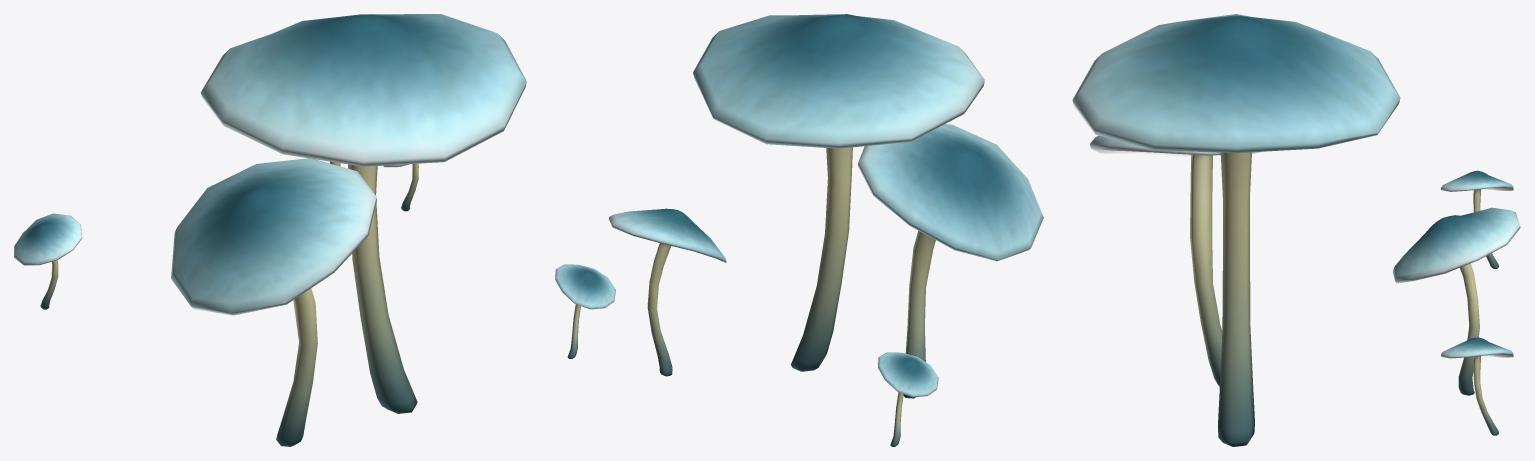
Rendered from Cartoon Seaweed_13-1-24.fbx.
The picture shows the model from 3 angles, left to right: view 1: azimuth 30°, elevation 25°; view 2: azimuth 150°, elevation 25°; view 3: azimuth 270°, elevation 25°; orthographic projection. The views are drawn at different scales.
Visible parts, largest first — view 1: Cartoon Seaweed_13.1.24; view 2: Cartoon Seaweed_13.1.24; view 3: Cartoon Seaweed_13.1.24.
Boxes of the visible parts, x1,y1,x2,y2 form: Cartoon Seaweed_13.1.24: (14,14,526,446); Cartoon Seaweed_13.1.24: (555,14,1043,446); Cartoon Seaweed_13.1.24: (1072,14,1520,446).
Bounding box in the file's own units: 11.52 × 10.7 × 10.64.
1 material, 1 textured.
